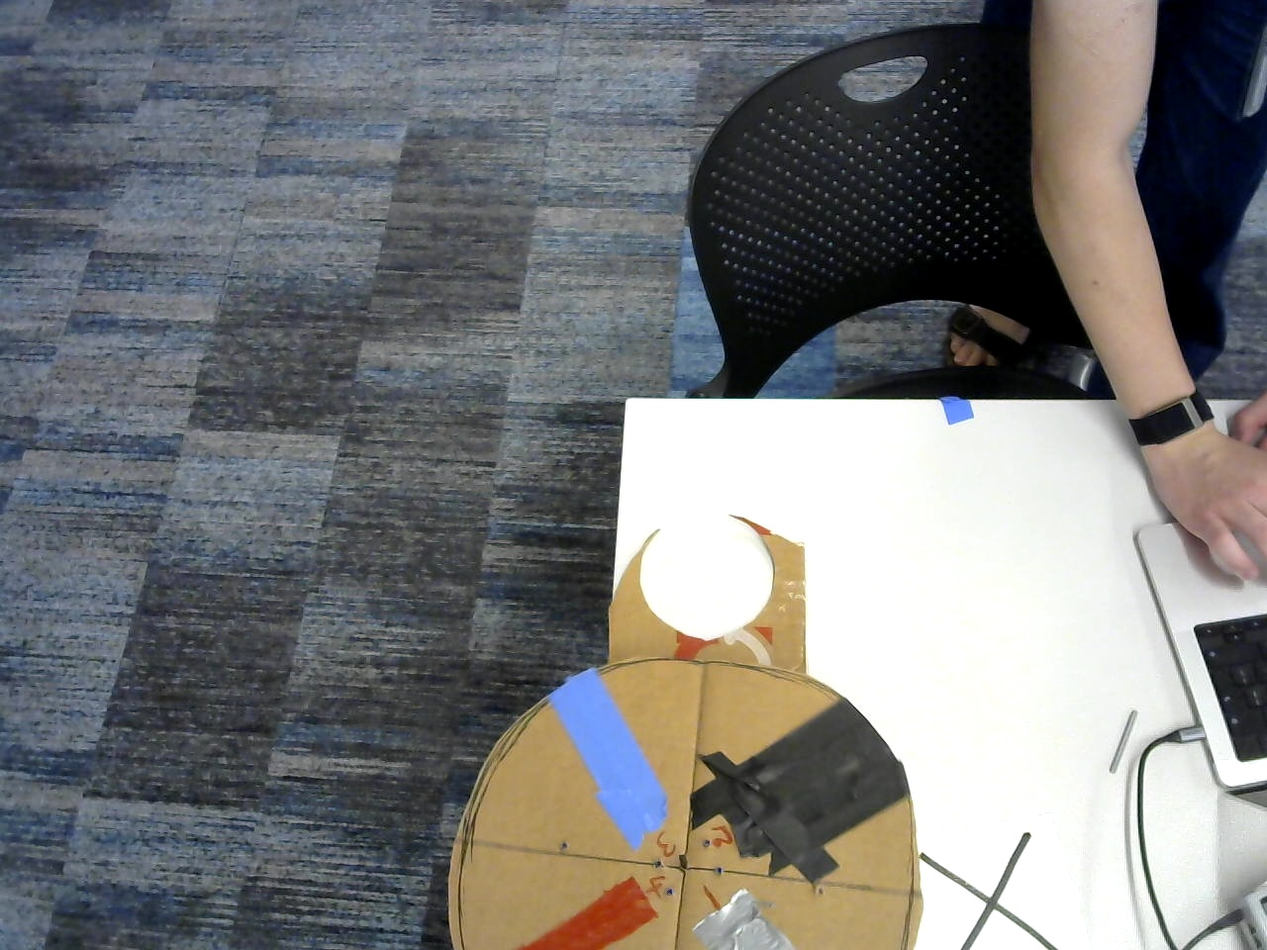black: (1200, 602, 1267, 759)
blue: (549, 669, 670, 849)
red: (472, 879, 659, 950)
silver: (686, 890, 853, 950)
x: (930, 834, 1049, 950)
